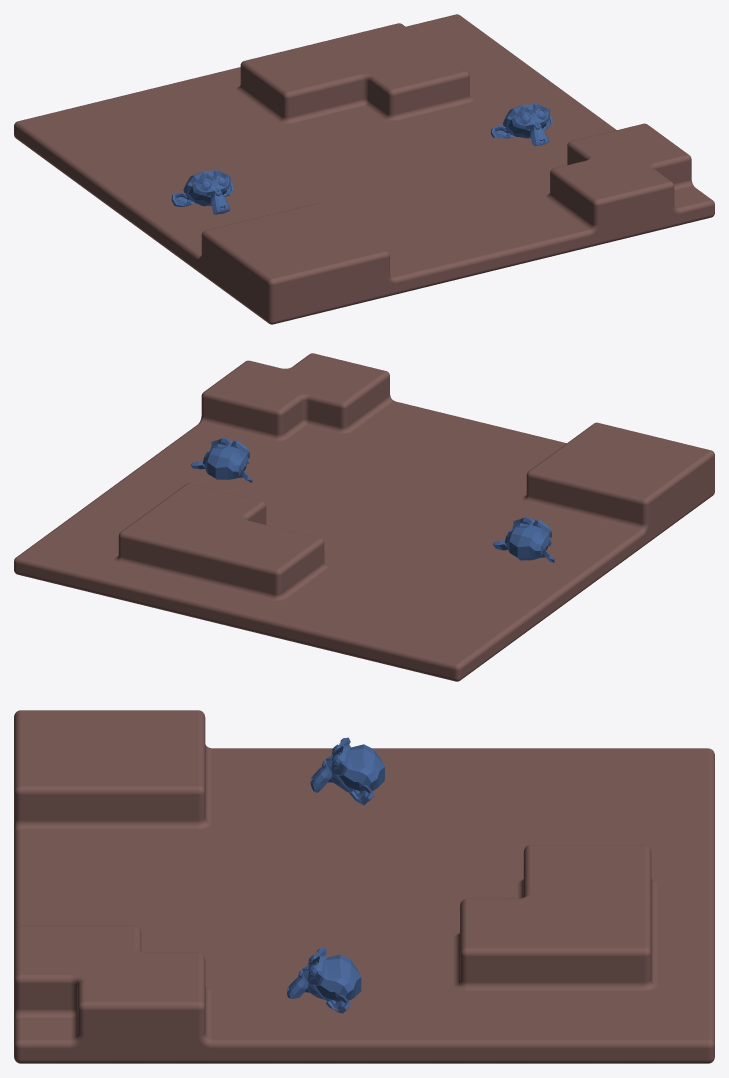
3 renders of one model, top to bottom at view 1: azimuth 30°, elevation 25°; view 2: azimuth 150°, elevation 25°; view 3: azimuth 270°, elevation 25°, orthographic. The views are drawn at different scales.
Parts seen in each view (by area): view 1: groundObject, monkey2, monkey1Object; view 2: groundObject, monkey2, monkey1Object; view 3: groundObject, monkey2, monkey1Object.
Part boxes in pixels (<box>): groundObject: <box>14,14,714,324</box>; monkey2: <box>171,169,233,214</box>; monkey1Object: <box>491,102,552,145</box>; groundObject: <box>14,353,714,681</box>; monkey2: <box>493,516,554,562</box>; monkey1Object: <box>191,437,252,482</box>; groundObject: <box>14,710,714,1063</box>; monkey2: <box>310,737,384,805</box>; monkey1Object: <box>287,947,361,1013</box>.
Size of the model in its own units: 20 by 2.18 by 20.
